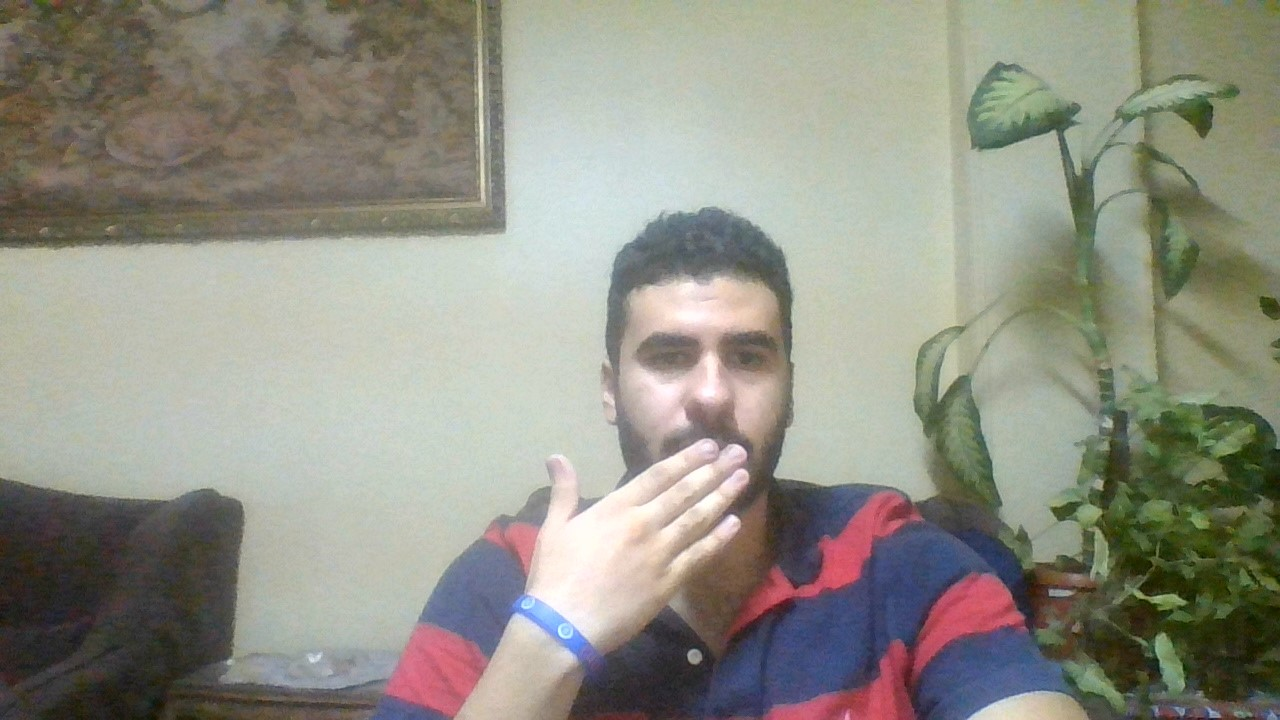thankyou: (520, 434, 755, 623)
